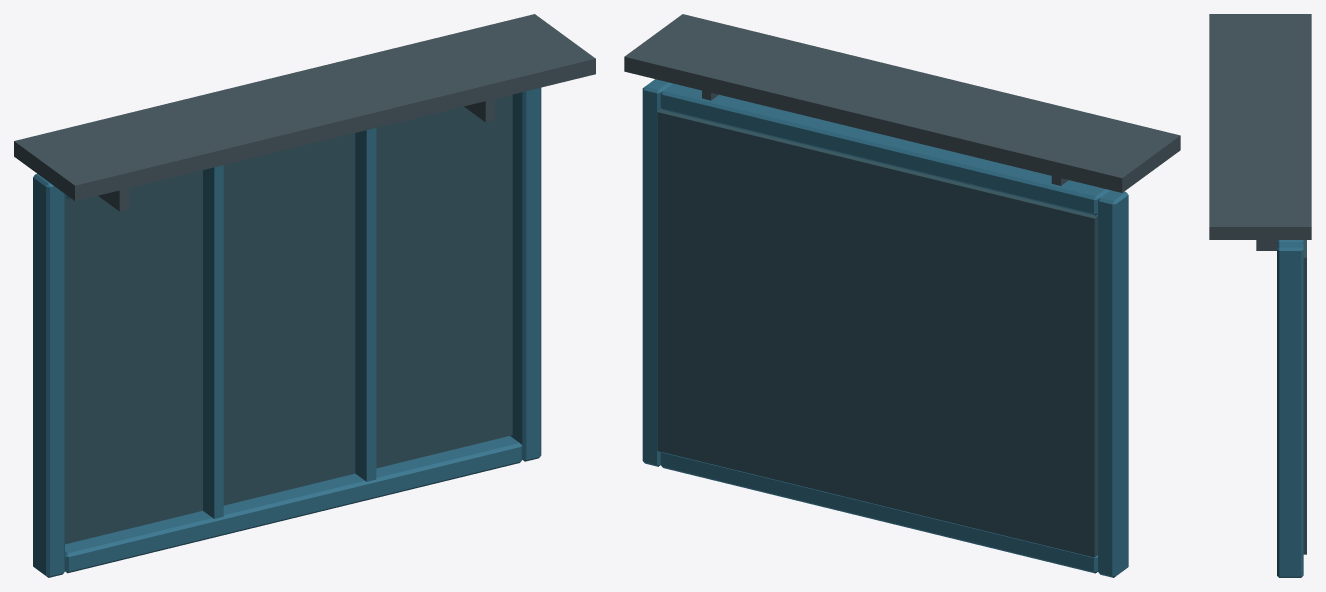
File: window_27.glb
3 renders of one model, left to right at view 1: azimuth 30°, elevation 25°; view 2: azimuth 150°, elevation 25°; view 3: azimuth 270°, elevation 25°, orthographic. The views are drawn at different scales.
Visible parts, largest first — view 1: window_27; view 2: window_27; view 3: window_27.
Part boxes in pixels (x1=…): window_27: x1=14, y1=14, x2=595, y2=577; window_27: x1=624, y1=14, x2=1180, y2=577; window_27: x1=1209, y1=14, x2=1311, y2=577.
Bounding box in the file's own units: 2.46 × 1.93 × 0.5.
